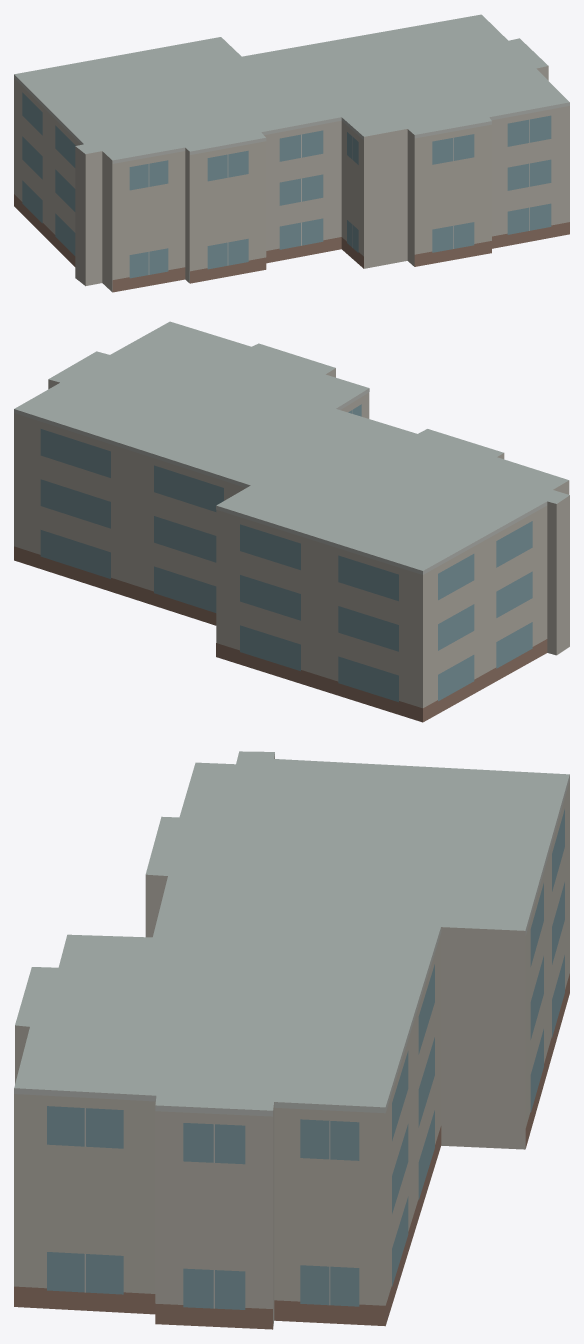
Rendered from survey-upis-32833344.glb.
The picture shows the model from 3 angles, top to bottom: view 1: azimuth 30°, elevation 25°; view 2: azimuth 150°, elevation 25°; view 3: azimuth 270°, elevation 25°; orthographic projection. The views are drawn at different scales.
Parts seen in each view (by area): view 1: survey-upis-32833344.tmp; view 2: survey-upis-32833344.tmp; view 3: survey-upis-32833344.tmp.
Boxes of the visible parts, x1=… form: survey-upis-32833344.tmp: x1=14, y1=14, x2=569, y2=292; survey-upis-32833344.tmp: x1=14, y1=321, x2=569, y2=722; survey-upis-32833344.tmp: x1=14, y1=751, x2=569, y2=1329.
Size of the model in its own units: 32.25 by 9.15 by 21.08.
